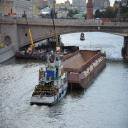tugboat: (30, 50, 70, 110)
